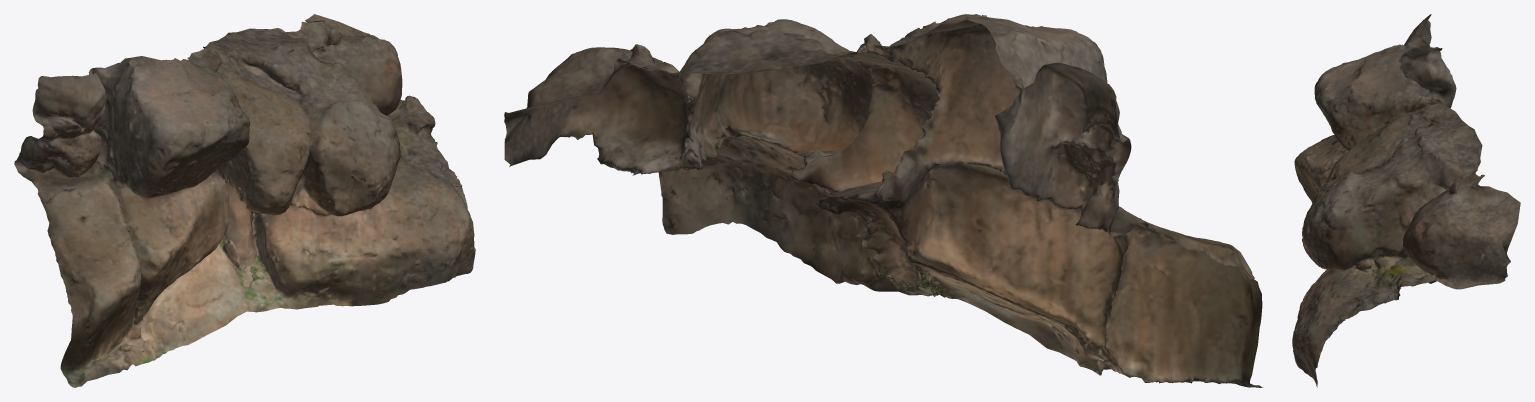
The model's file is namaqualand_cliff_01.36abe3c4a0.glb.
The picture shows the model from 3 angles, left to right: view 1: azimuth 30°, elevation 25°; view 2: azimuth 150°, elevation 25°; view 3: azimuth 270°, elevation 25°; orthographic projection. The views are drawn at different scales.
Visible parts, largest first — view 1: drone_rock_01; view 2: drone_rock_01; view 3: drone_rock_01.
Boxes of the visible parts, x1=… form: drone_rock_01: x1=14, y1=14, x2=475, y2=387; drone_rock_01: x1=504, y1=14, x2=1263, y2=387; drone_rock_01: x1=1292, y1=14, x2=1520, y2=387.
Bounding box in the file's own units: 8.28 × 4.96 × 4.39.
Materials: 1 (1 with a texture image).
